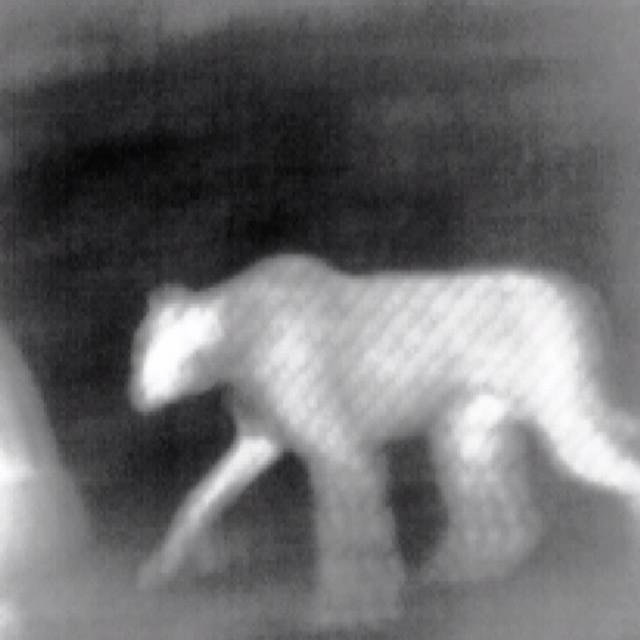cheetah: (131, 253, 639, 595)
